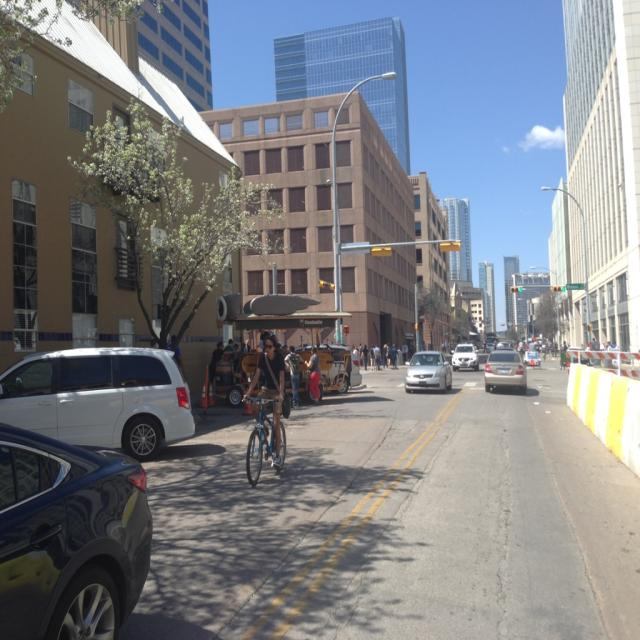car: (404, 349, 453, 392), (484, 347, 529, 388), (450, 343, 478, 369)
